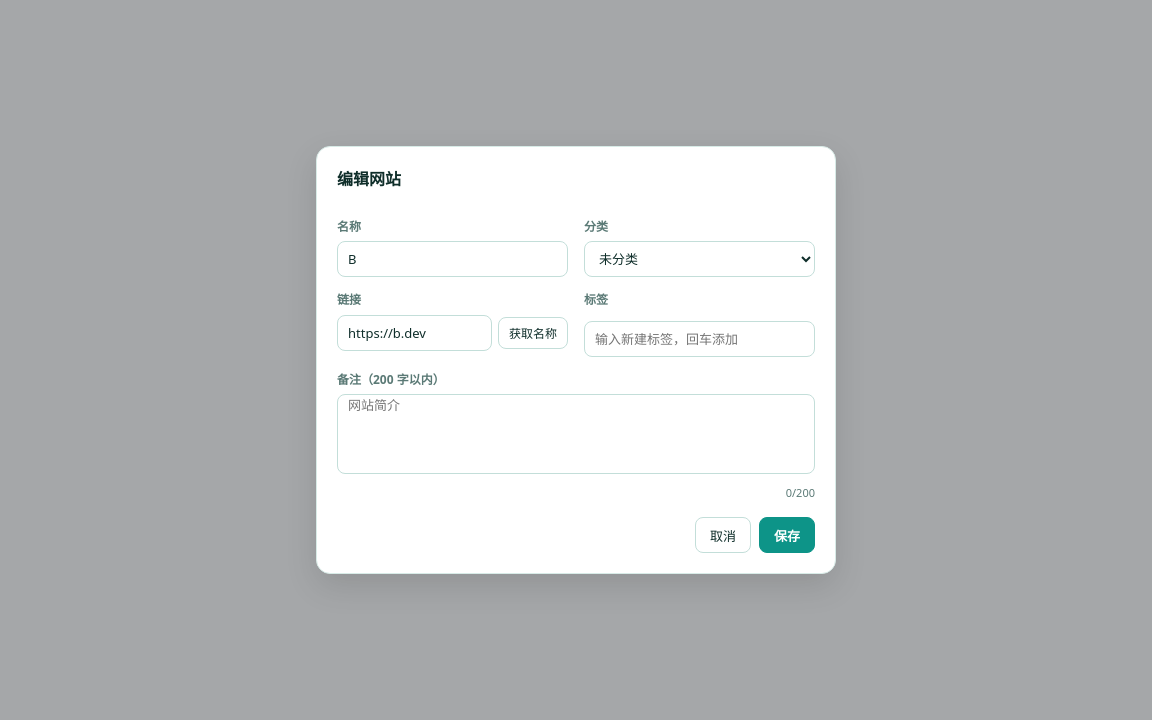
Test: AddEditModal › shows error for duplicate URL on edit
Replace the text in the 2nd field with "https://a.dev" at {"x": 414, "y": 333}, box left=337, top=315, right=492, bottom=351
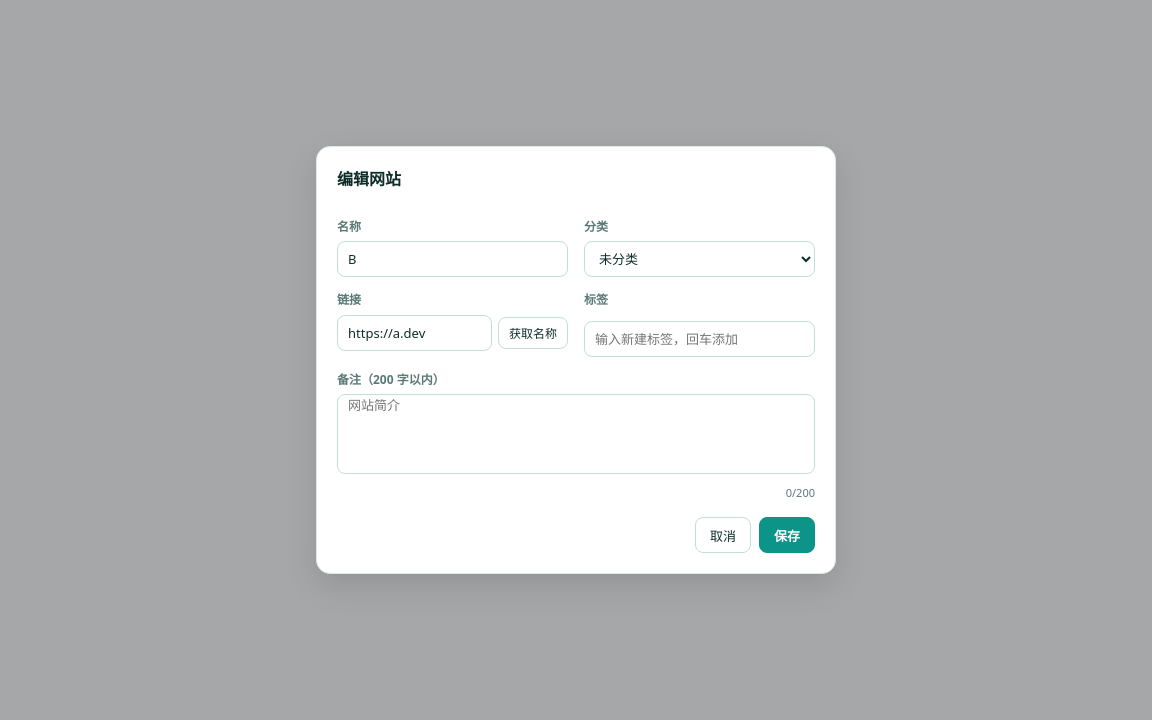
Click the button "保存" at {"x": 787, "y": 535}, box left=759, top=517, right=815, bottom=553
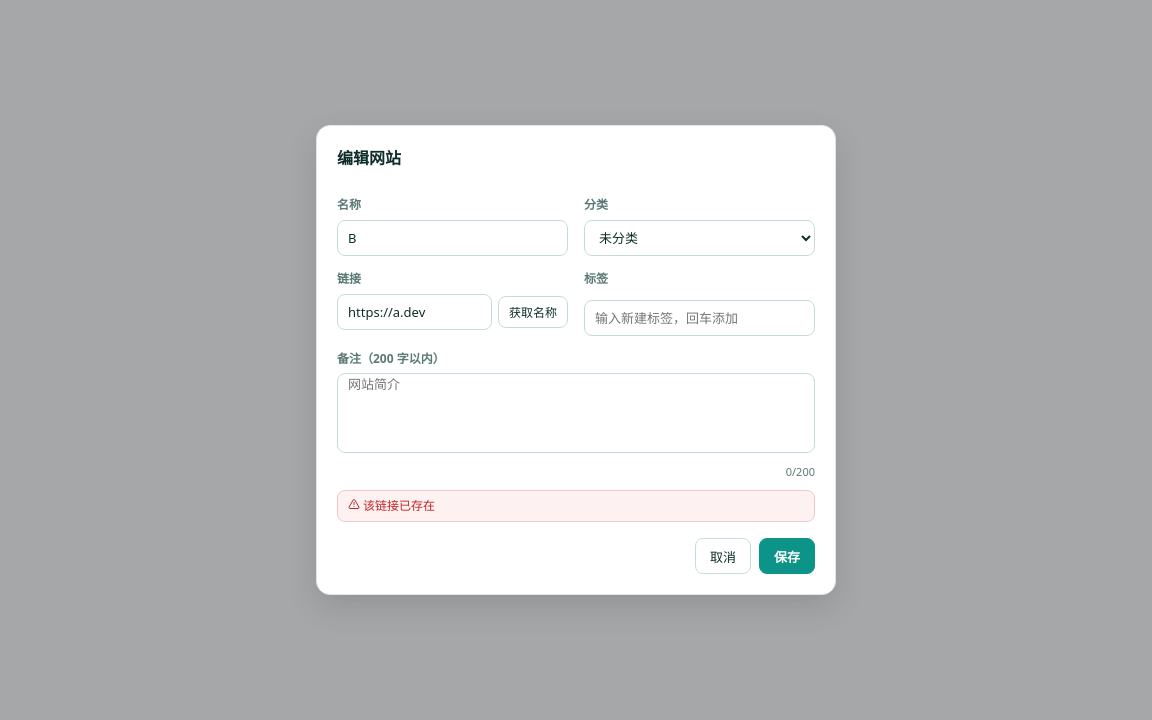
Now the text "该链接已存在" is shown, box left=337, top=490, right=815, bottom=522
